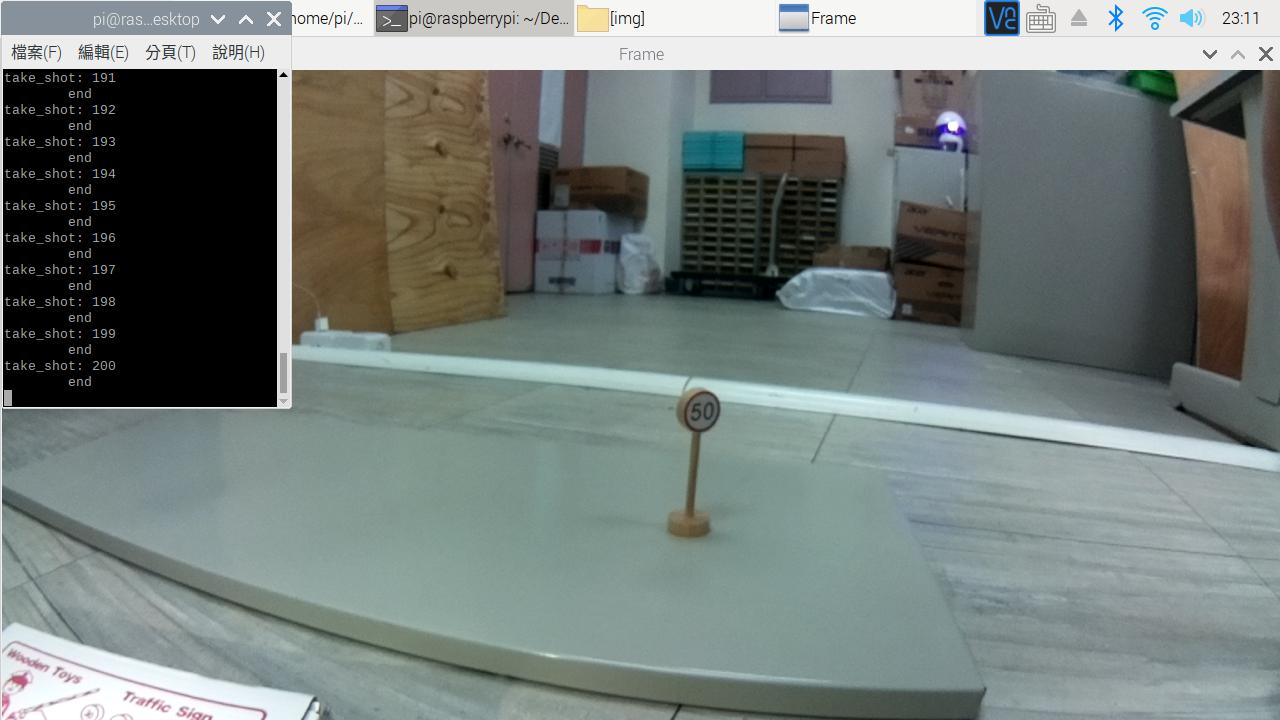Speed50: (661, 386, 742, 437)
